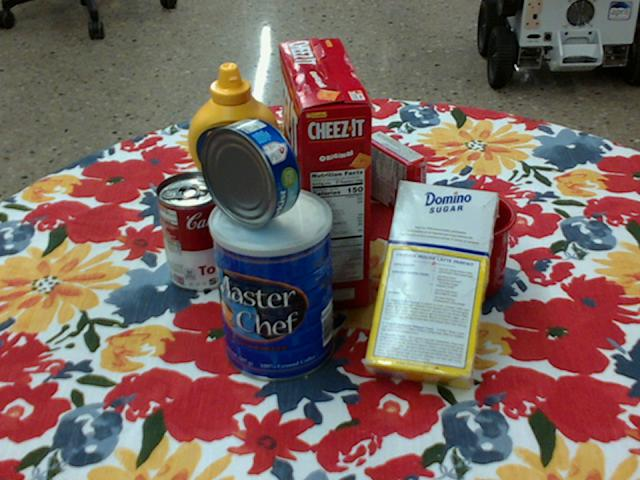cracker_box: (278, 39, 372, 311)
gelatin_box: (361, 130, 426, 220)
large_marker: (305, 76, 327, 126)
master_chef_can: (209, 188, 334, 384)
mug: (398, 188, 515, 301)
mustard_bottle: (187, 64, 284, 239)
potted_meat_can: (270, 121, 362, 210)
sugar_box: (363, 183, 497, 393)
tomato_soup_can: (155, 171, 233, 291)
tuna_fish_can: (200, 118, 301, 228)
